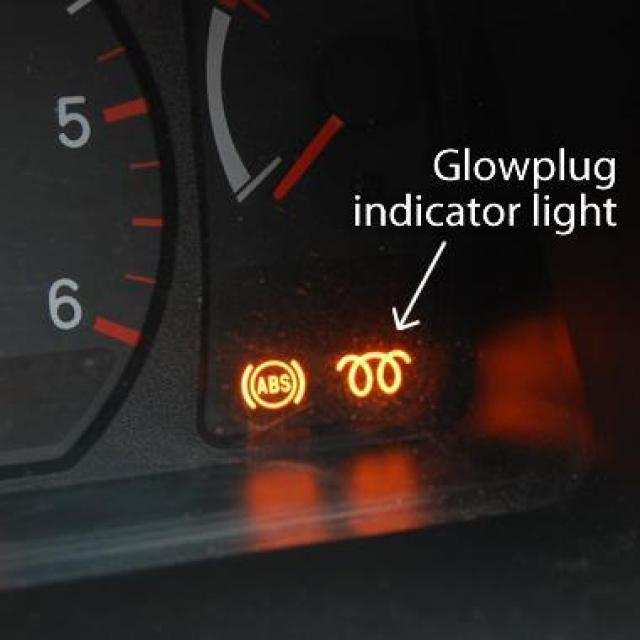kontrolka: (327, 338, 433, 408), (220, 345, 317, 421)
